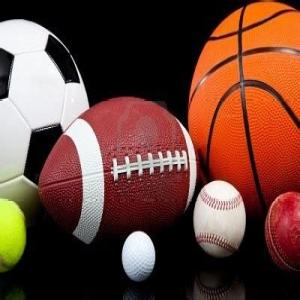Basket: (187, 1, 300, 225)
Football: (0, 17, 91, 217)
Golf: (121, 230, 156, 282)
Rugby: (38, 96, 199, 244)
Tennis: (0, 197, 28, 274)
